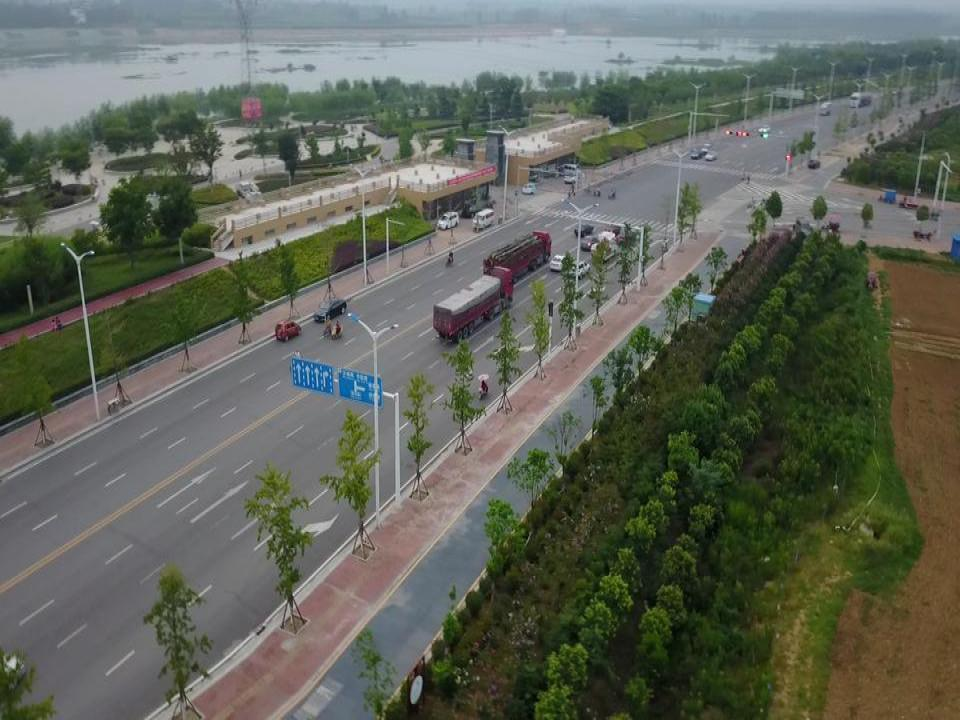car: (313, 297, 347, 323), (275, 318, 302, 342), (436, 210, 459, 231), (549, 253, 573, 272), (568, 258, 590, 278), (463, 202, 484, 219), (616, 228, 637, 245), (574, 221, 594, 238), (579, 234, 599, 251), (602, 221, 621, 236), (521, 181, 535, 195), (564, 172, 580, 184), (704, 150, 718, 162), (758, 124, 771, 136), (808, 158, 821, 170), (700, 142, 711, 154), (690, 149, 702, 159)
truck: (432, 265, 519, 344), (482, 228, 552, 288), (590, 238, 617, 262), (848, 91, 872, 108), (818, 101, 832, 116)
van: (471, 208, 494, 232), (794, 216, 813, 241), (563, 162, 580, 178)
